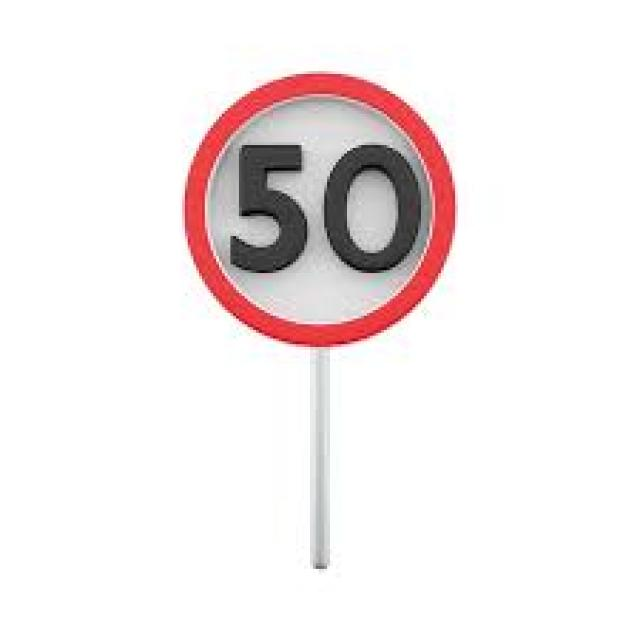Speed limit 50: (180, 66, 459, 351)
